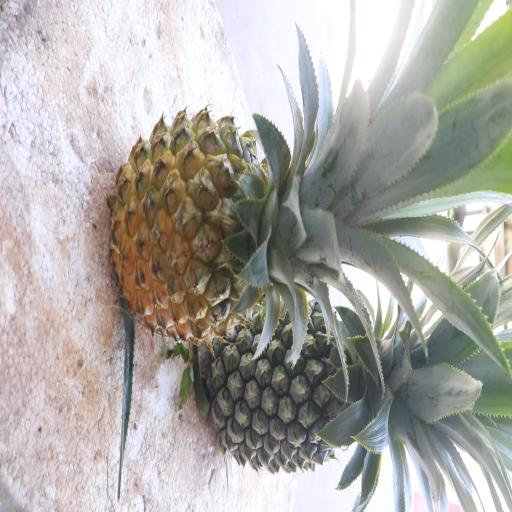Pineapple - v8 v1: (106, 101, 432, 347)
